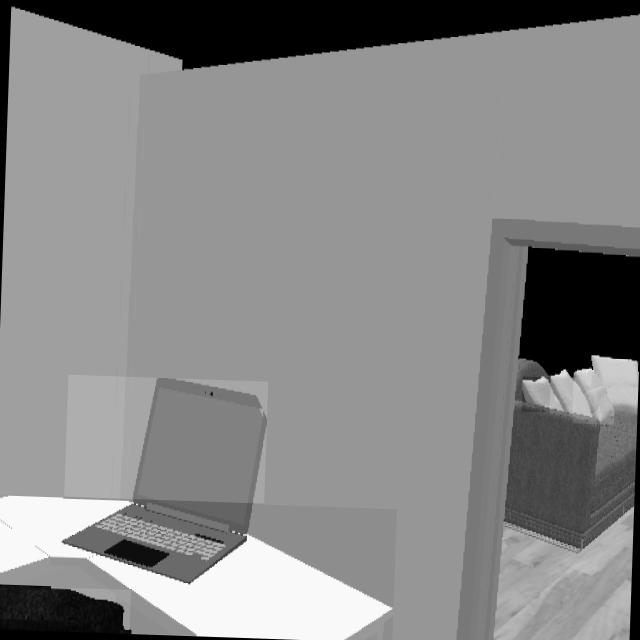chair: (0, 585, 129, 634)
laptop: (62, 378, 267, 589)
pillow: (591, 355, 637, 414), (574, 369, 614, 423), (551, 371, 590, 416), (522, 377, 562, 411)
sofa: (503, 359, 637, 553), (517, 357, 639, 425)
table: (0, 496, 393, 640)
